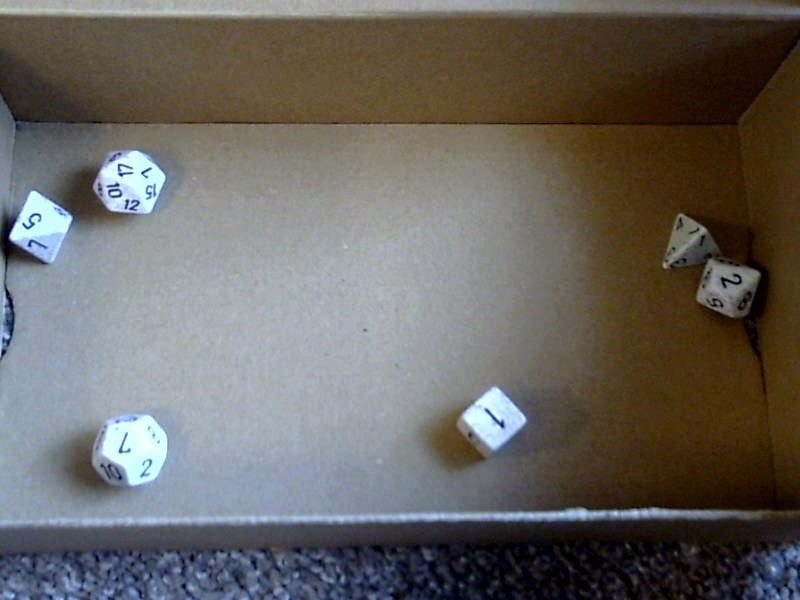d10 2: (688, 257, 765, 324)
d12 7: (85, 407, 171, 492)
d20 17: (88, 141, 169, 220)
d4 1: (655, 203, 722, 268)
d6 1: (452, 381, 529, 463)
d8 5: (7, 184, 74, 267)
